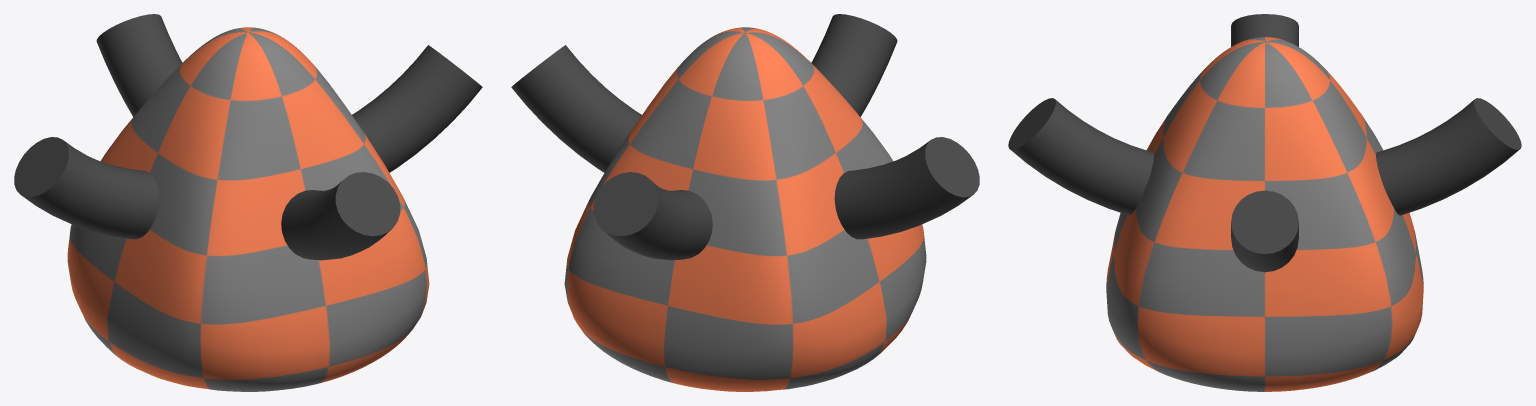
File: Body(Pyramidal)+Colour(More_Orange)+Arms(Bent_Up)+Pattern(Checkered).fbx
3 renders of one model, left to right at view 1: azimuth 30°, elevation 25°; view 2: azimuth 150°, elevation 25°; view 3: azimuth 270°, elevation 25°, orthographic. The views are drawn at different scales.
Parts seen in each view (by area): view 1: Body(Pyramidal)+Colour(More_Orange)+Arms(Bent_Up)+Pattern(Ch (×5); view 2: Body(Pyramidal)+Colour(More_Orange)+Arms(Bent_Up)+Pattern(Ch (×5); view 3: Body(Pyramidal)+Colour(More_Orange)+Arms(Bent_Up)+Pattern(Ch (×5).
Boxes of the visible parts, x1,y1,x2,y2 form: Body(Pyramidal)+Colour(More_Orange)+Arms(Bent_Up)+Pattern(Ch (×5): (14,14,482,391); Body(Pyramidal)+Colour(More_Orange)+Arms(Bent_Up)+Pattern(Ch (×5): (511,14,979,391); Body(Pyramidal)+Colour(More_Orange)+Arms(Bent_Up)+Pattern(Ch (×5): (1008,14,1521,391).
Bounding box in the file's own units: 60.67 × 40 × 60.67.
2 materials, 2 textured.
